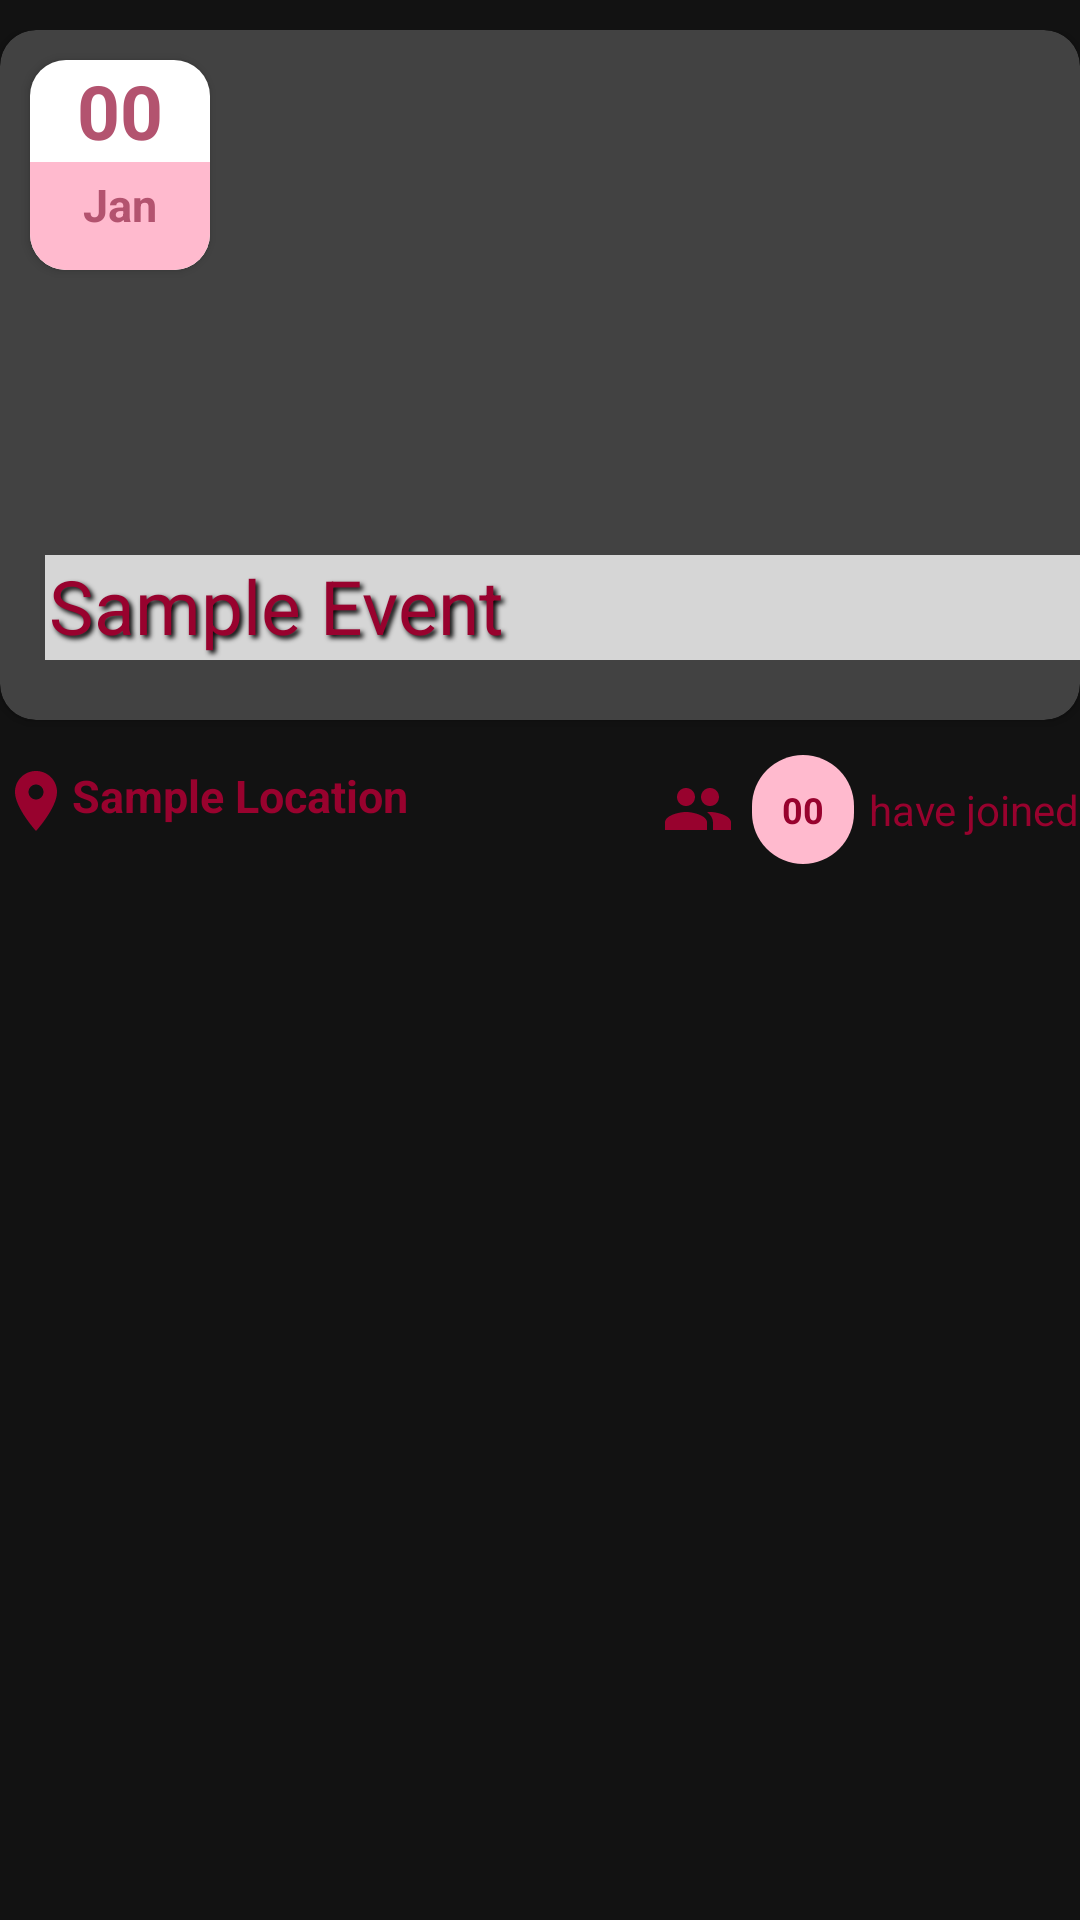

Named icons in this screenshot (1080 × 1920) and their centers, [x,y]:
location on: [36,801]
